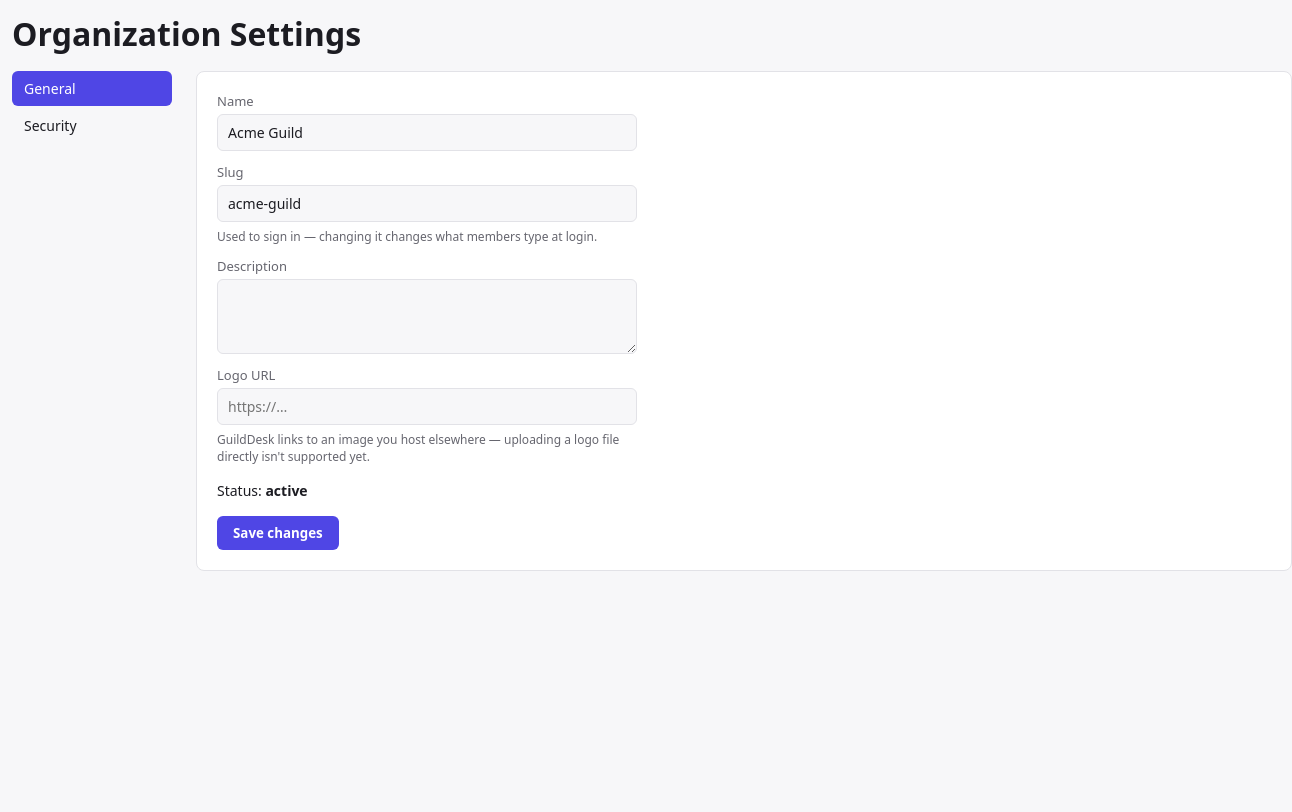
Test: SettingsPage › saves edited name, slug, description, and logo URL
Replace the text in the field labelled "Name" with "Acme Corp" at (427, 132), box [217,114,637,151]
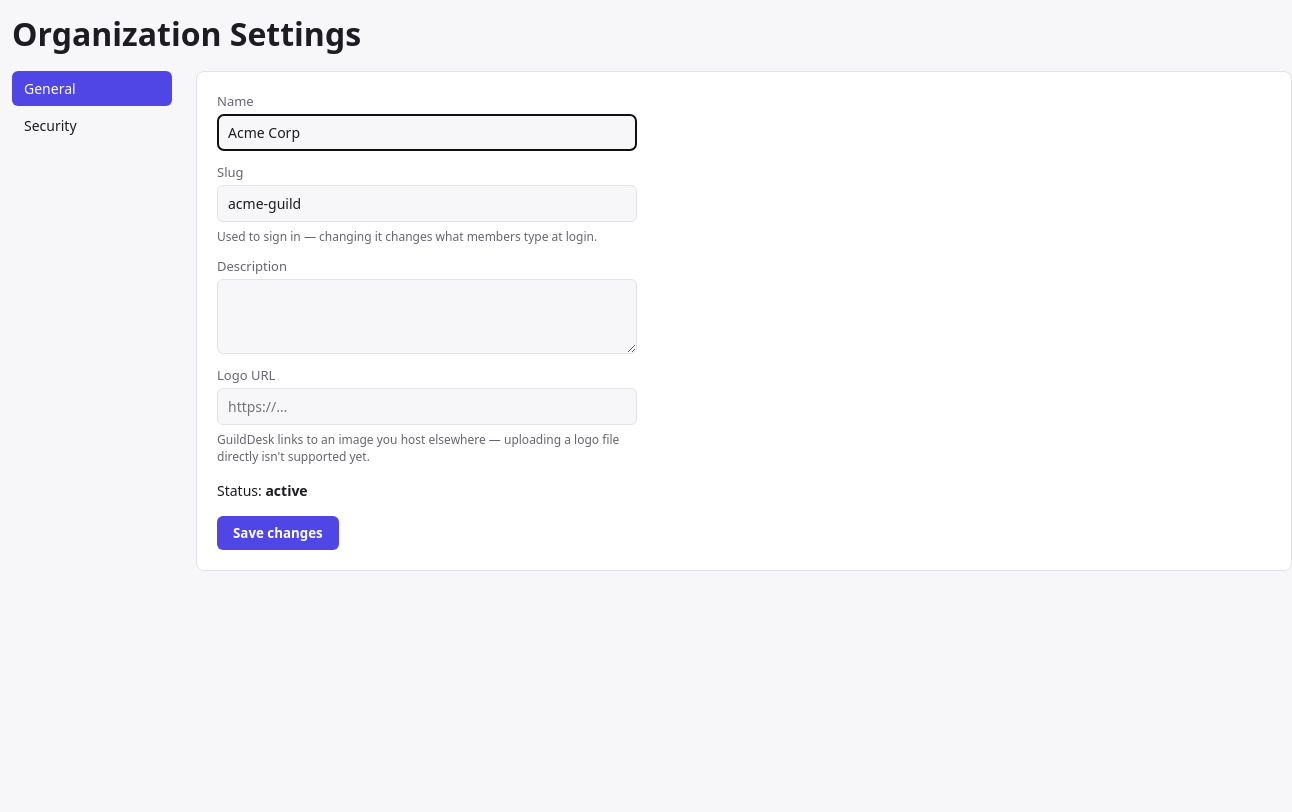
Replace the text in the field labelled "Slug" with "acme-corp" at (427, 204), box [217,185,637,222]
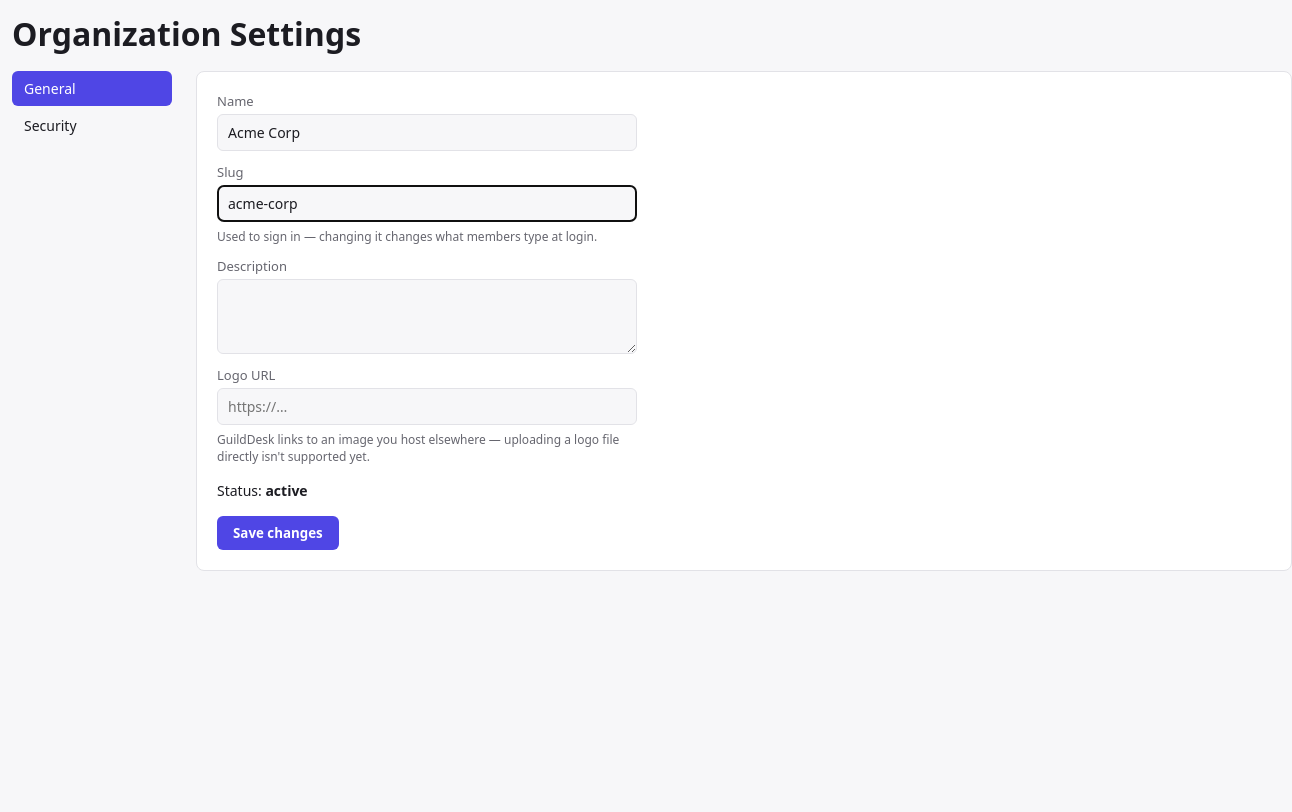
Type "Widgets" into the text box labelled "Description" at (427, 316), box [217,279,637,354]
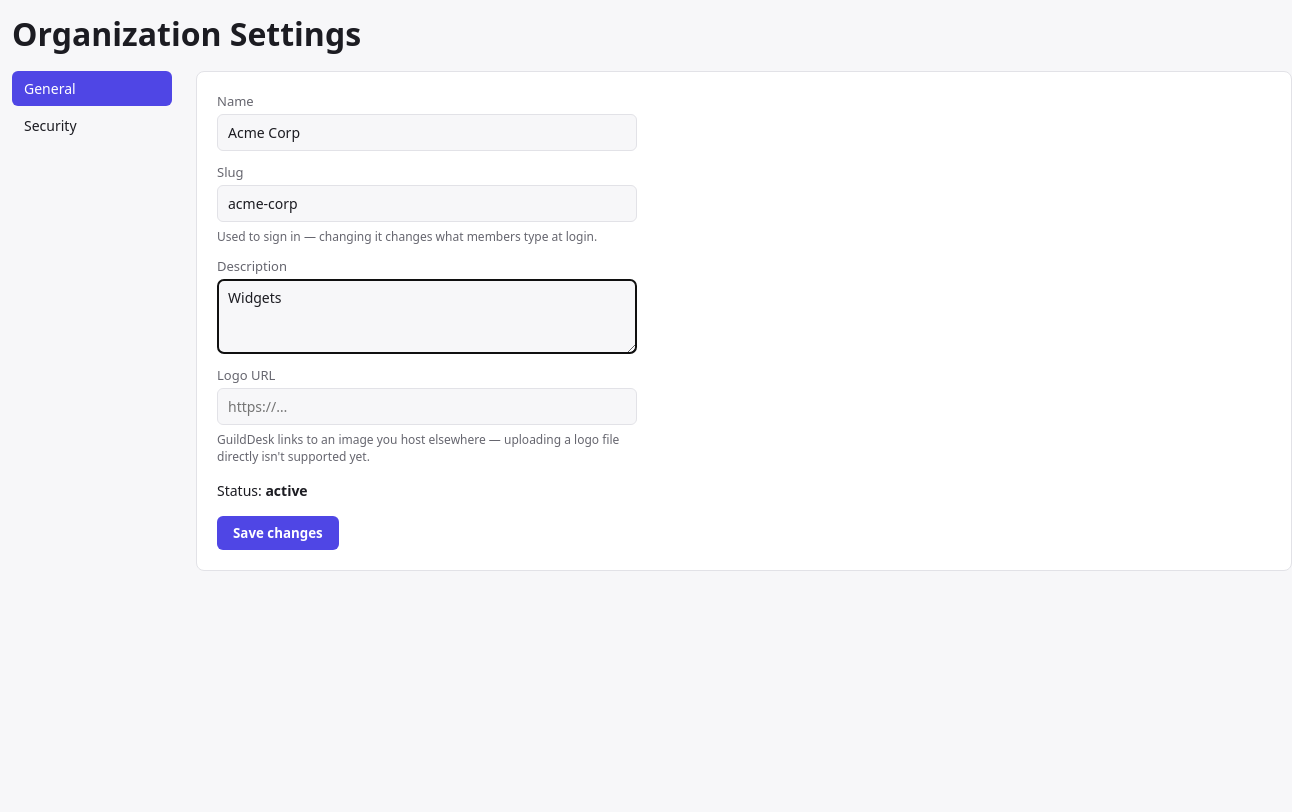
Type "https://x/logo.png" into the field labelled "Logo URL" at (427, 406), box [217,388,637,425]
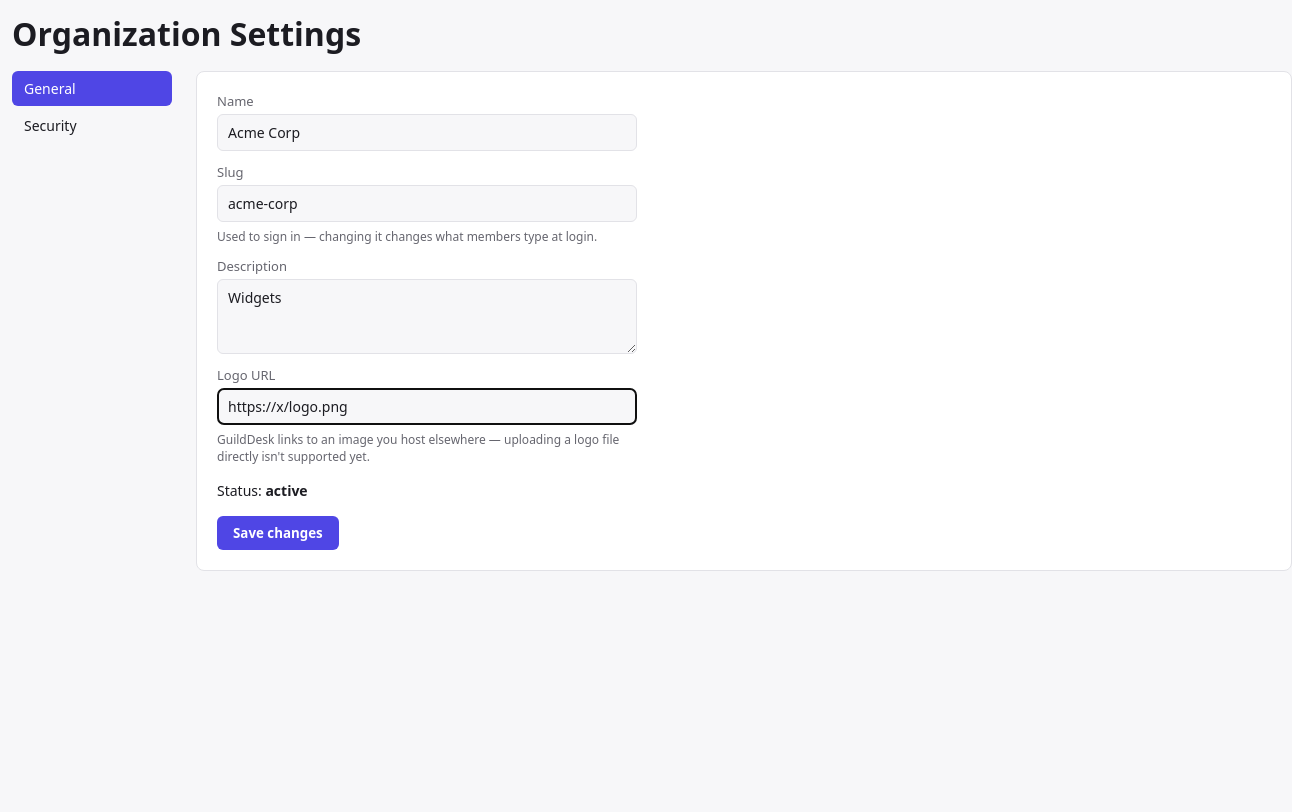
Click the button "Save changes" at (278, 533), box [217,516,339,550]
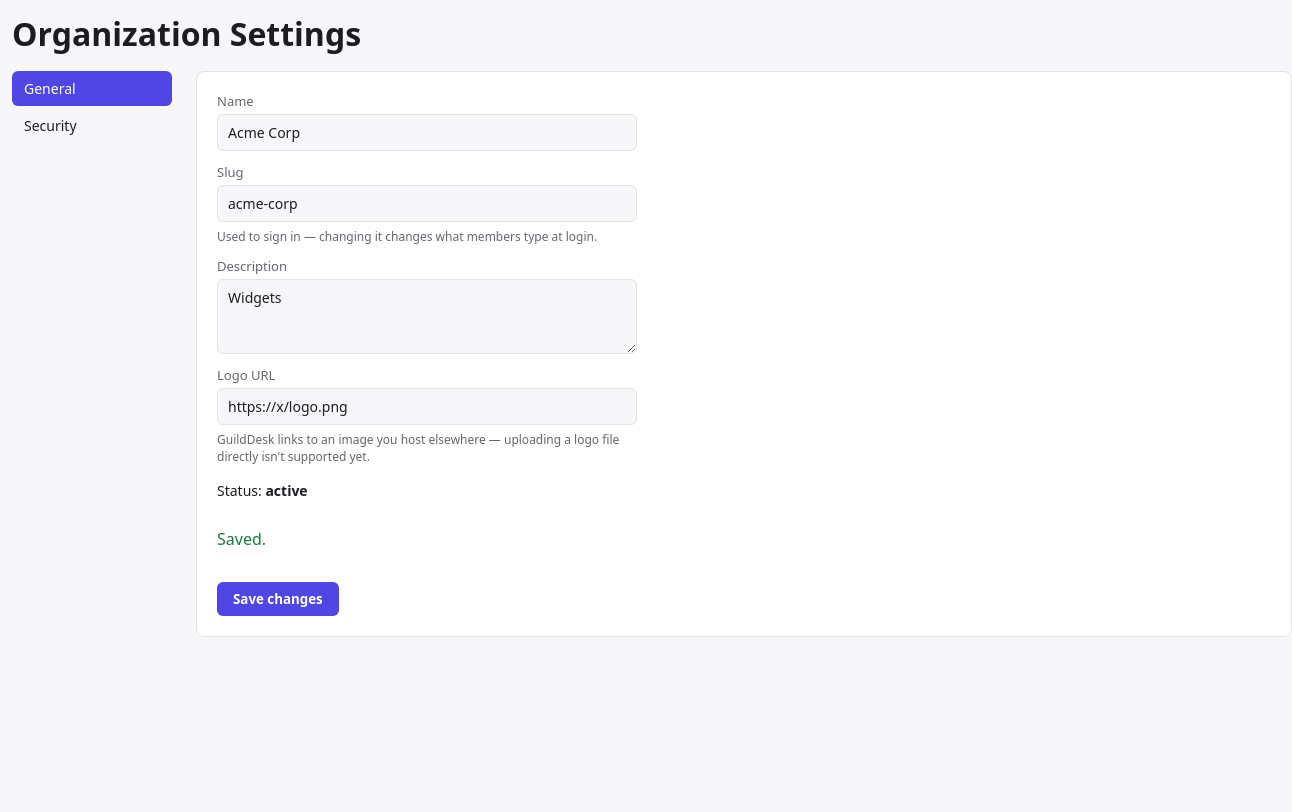
expect the text "Saved." is shown: met, box [217,528,266,550]
